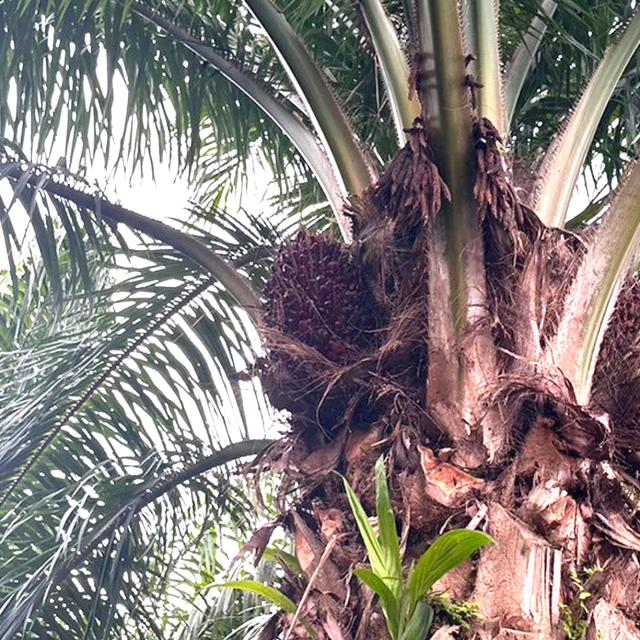ripe: (246, 216, 368, 385)
